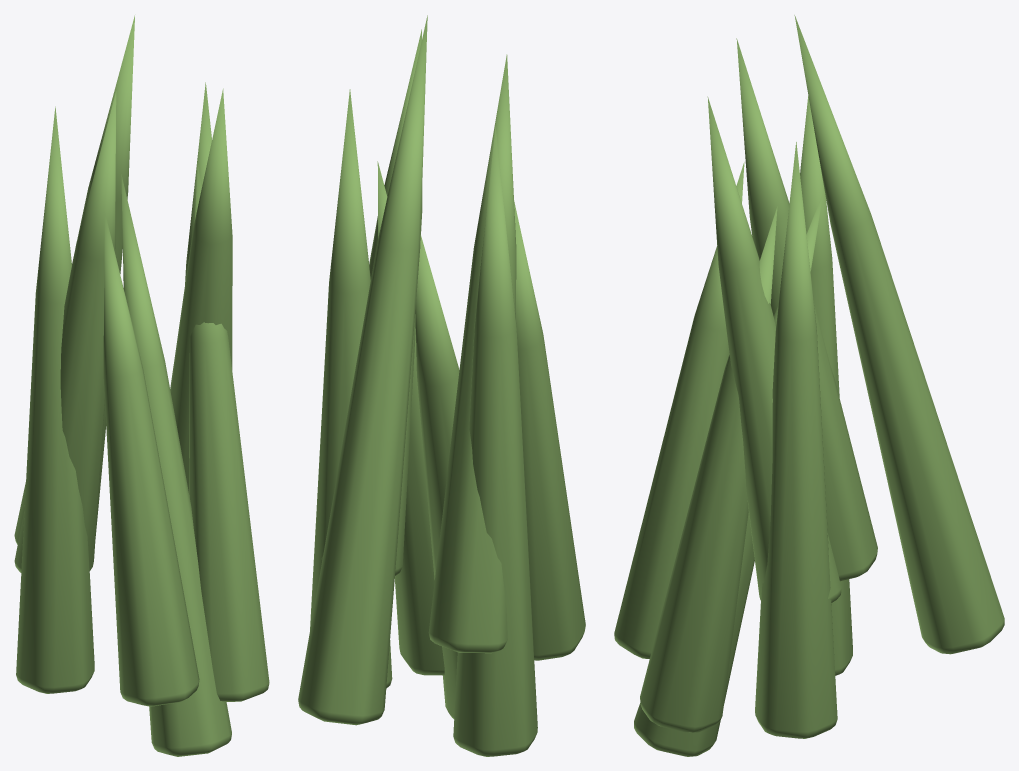
Rendered from grass_tuft.glb.
3 renders of one model, left to right at view 1: azimuth 30°, elevation 25°; view 2: azimuth 150°, elevation 25°; view 3: azimuth 270°, elevation 25°, orthographic. The views are drawn at different scales.
Visible parts, largest first — view 1: grass_tuft; view 2: grass_tuft; view 3: grass_tuft.
Part boxes in pixels (x1,y1,x2,y2): grass_tuft: (14, 15, 269, 756); grass_tuft: (298, 15, 585, 756); grass_tuft: (614, 15, 1004, 756).
Bounding box in the file's own units: 0.4126 × 1.31 × 0.6306.
